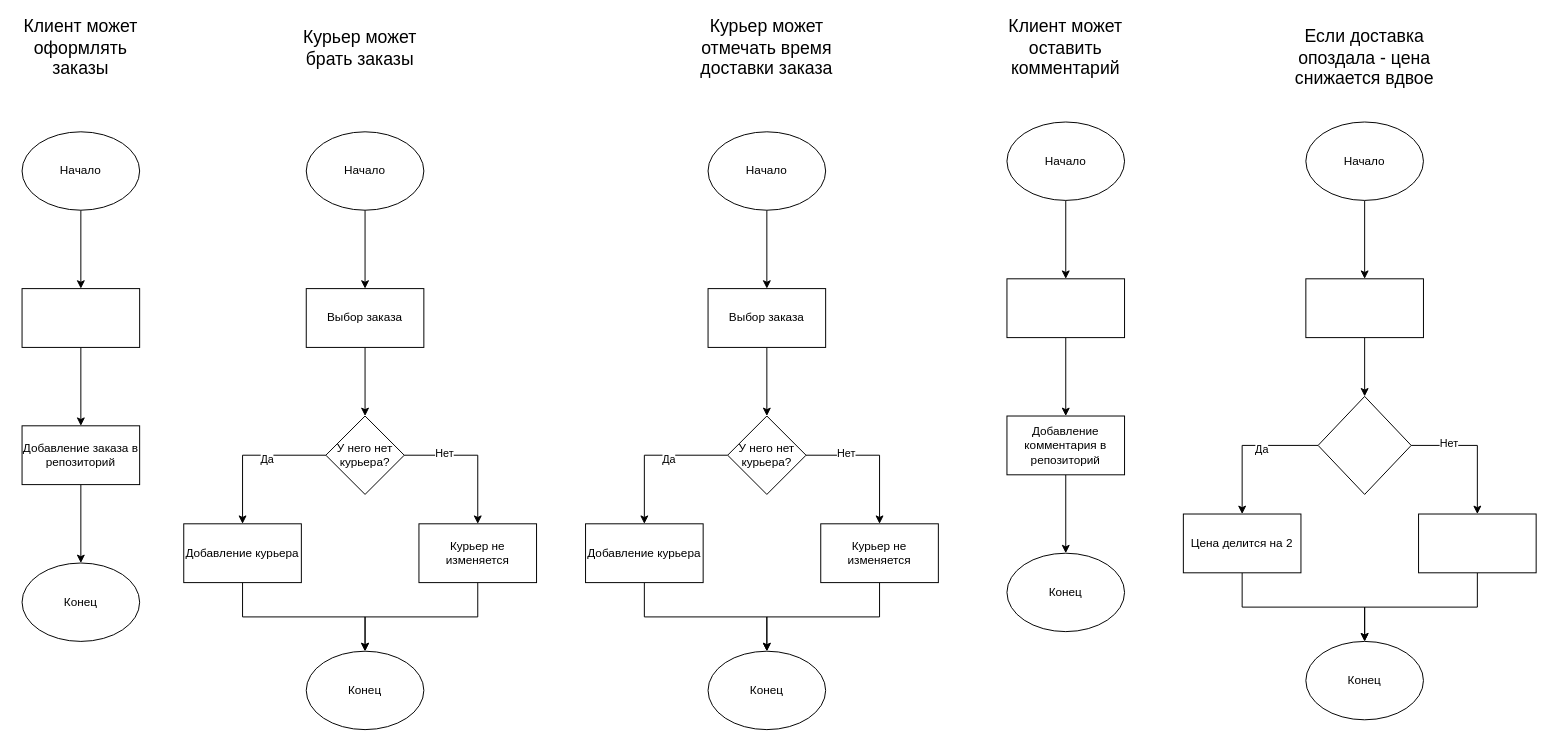
Image size: 1553x747. Some labels were removed from this diagram. The shapes that lost their labels are listed below. From the top down, each one's centre as x and y in pixels, then its label:
(80,317): Формирование состава заказа
(1065,308): Формирование комментария
(1364,308): Заказ доставлен
(1364,444): Опоздал на 2 часа?
(1477,543): Цена не изменяется
